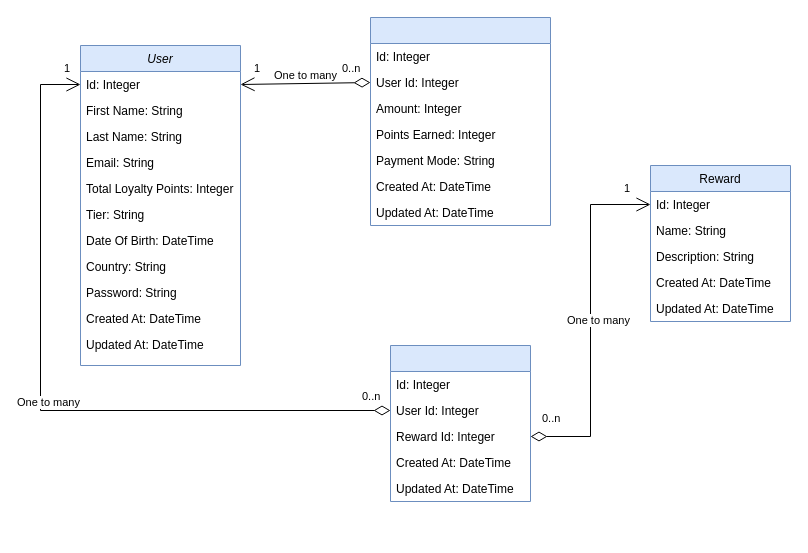
This 808x553 diagram has some shape labels left out. Here are the shapes that lost their labels. From the top down, the box of each, then its label:
(370, 16, 550, 226): Transaction
(390, 344, 530, 502): User Reward
